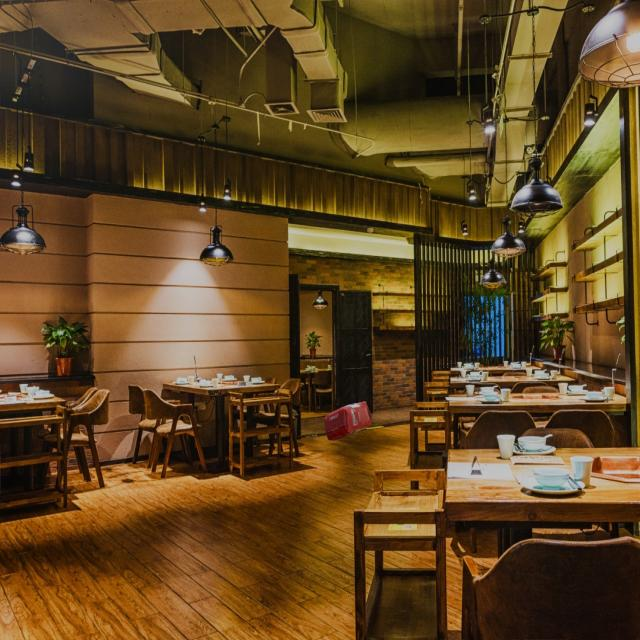mate bag: (322, 396, 370, 445)
